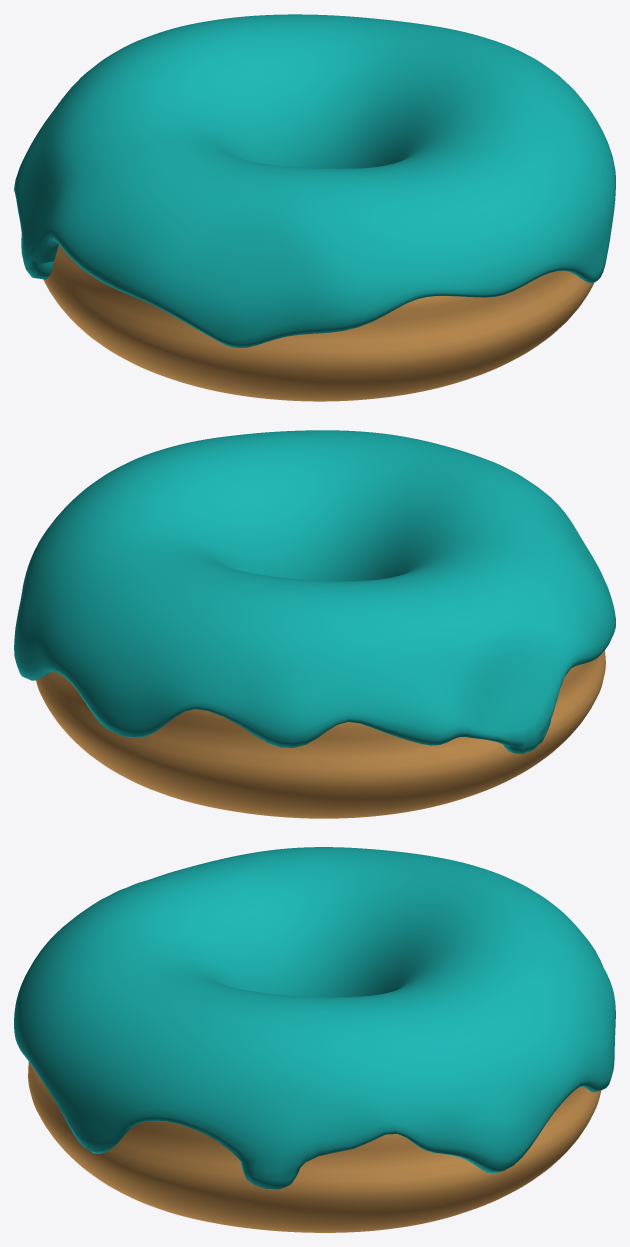
The model's file is donut.glb.
The picture shows the model from 3 angles, top to bottom: view 1: azimuth 30°, elevation 25°; view 2: azimuth 150°, elevation 25°; view 3: azimuth 270°, elevation 25°; orthographic projection.
Parts seen in each view (by area): view 1: Donut; view 2: Donut; view 3: Donut.
Part boxes in pixels (x1,y1,x2,y2): Donut: (14,14,615,401); Donut: (14,430,615,818); Donut: (14,847,615,1232).
Size of the model in its own units: 0.0838 by 0.0335 by 0.0828.
